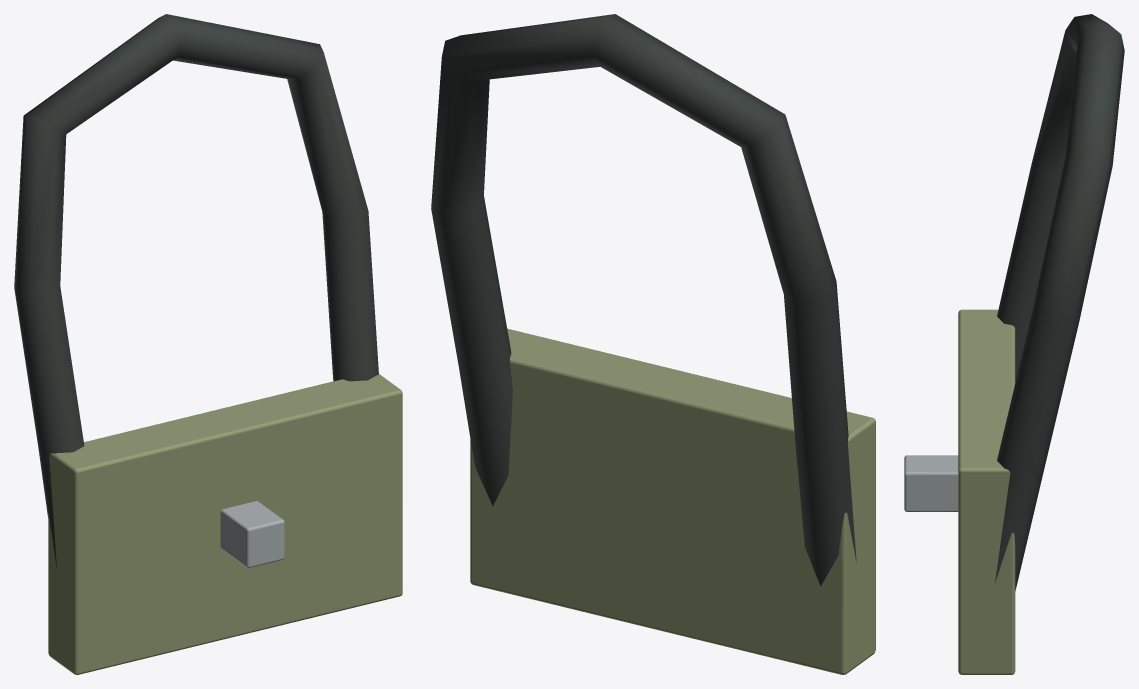
The model's file is backpacks-and-expedition-storage-chest-harness-b082696a__21090.glb.
3 views of the same model, side by side, from view 1: azimuth 30°, elevation 25°; view 2: azimuth 150°, elevation 25°; view 3: azimuth 270°, elevation 25° (orthographic). The views are drawn at different scales.
Parts seen in each view (by area): view 1: chest-harness; view 2: chest-harness; view 3: chest-harness.
Boxes of the visible parts, left/top/right/bottom form: chest-harness: left=14, top=14, right=402, bottom=674; chest-harness: left=431, top=14, right=875, bottom=674; chest-harness: left=904, top=14, right=1124, bottom=674.
Size of the model in its own units: 0.3191 by 0.4961 by 0.1736.
